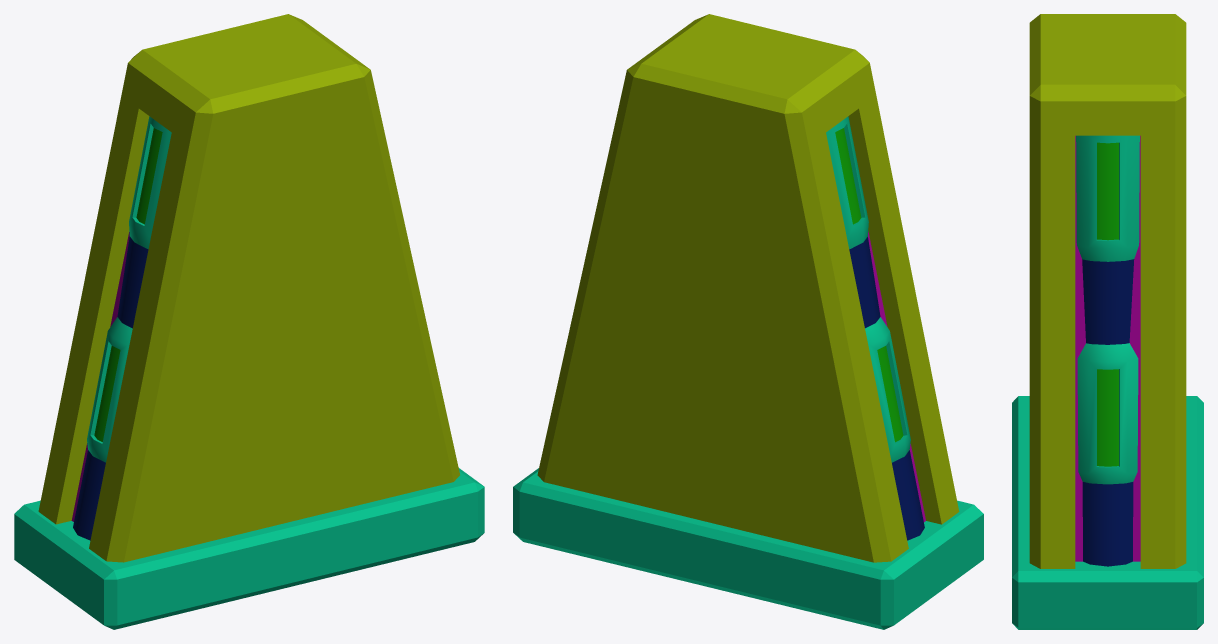
The model's file is OBJ_Pilone_cone 1.fbx.
3 views of the same model, side by side, from view 1: azimuth 30°, elevation 25°; view 2: azimuth 150°, elevation 25°; view 3: azimuth 270°, elevation 25° (orthographic).
Parts seen in each view (by area): view 1: OBJ_Pilone_cone; view 2: OBJ_Pilone_cone; view 3: OBJ_Pilone_cone.
Boxes of the visible parts, x1=… form: OBJ_Pilone_cone: x1=14, y1=14, x2=484, y2=629; OBJ_Pilone_cone: x1=513, y1=14, x2=983, y2=629; OBJ_Pilone_cone: x1=1012, y1=14, x2=1203, y2=629.
Bounding box in the file's own units: 19.95 × 24.85 × 8.76.
